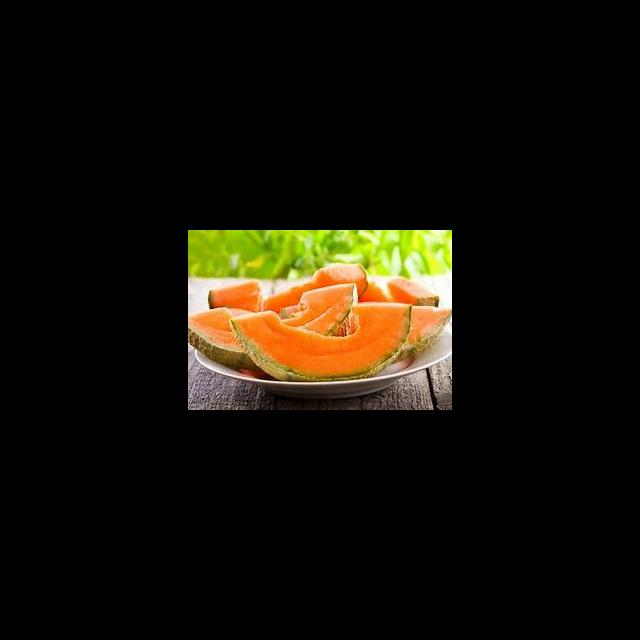Hami Melon: (230, 304, 411, 379), (189, 284, 353, 366)
